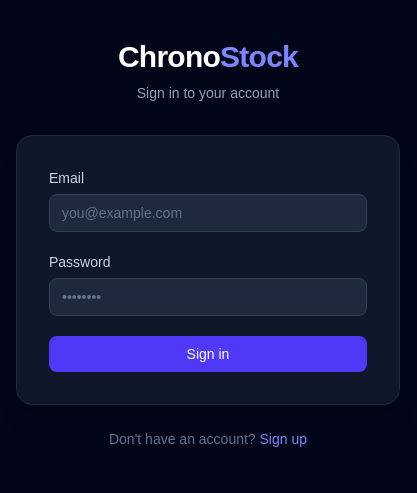
Test case: LoginPage › renders auth errors
Type "user@example.com" into the field labelled "Email" at (208, 213), box [49,194,367,232]
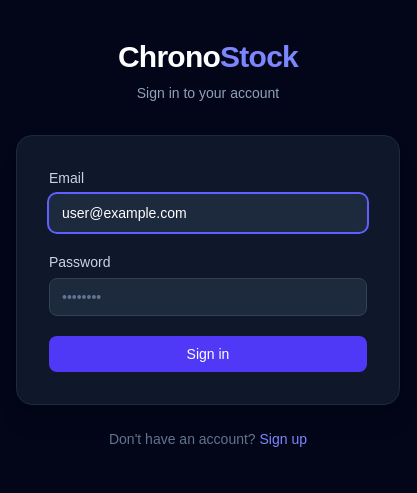
Type "secret" into the password field labelled "Password" at (208, 297), box [49,278,367,316]
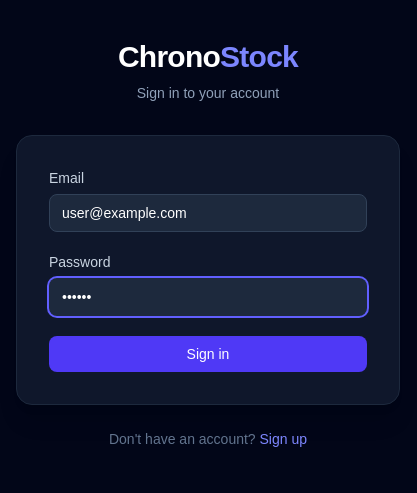
Click the button "Sign in" at (208, 354), box [49,336,367,372]
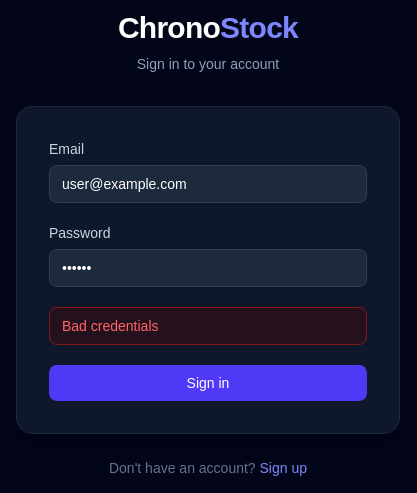
Result: the text "Bad credentials" is shown at [49,307,367,345]
